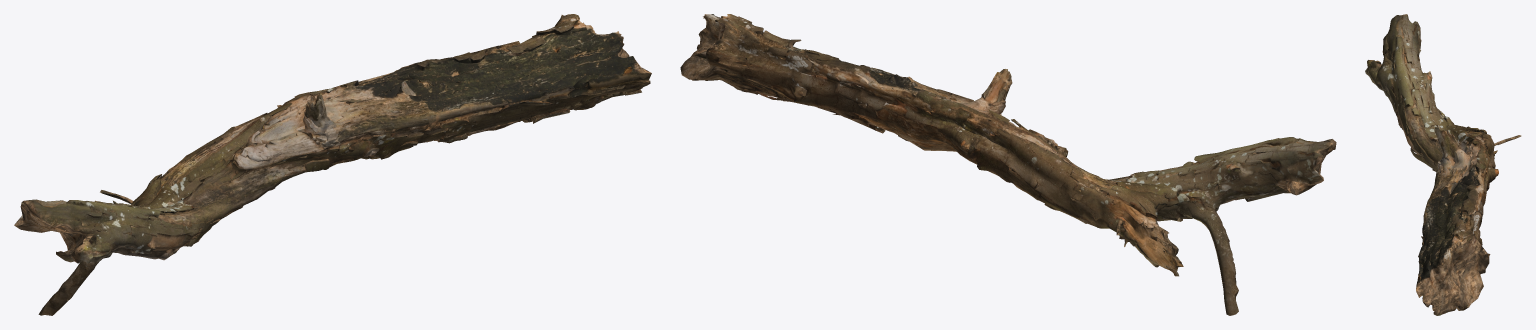
The model's file is sunken_trunk_b.glb.
The picture shows the model from 3 angles, left to right: view 1: azimuth 30°, elevation 25°; view 2: azimuth 150°, elevation 25°; view 3: azimuth 270°, elevation 25°; orthographic projection. The views are drawn at different scales.
Visible parts, largest first — view 1: sunken_trunk_b; view 2: sunken_trunk_b; view 3: sunken_trunk_b.
Part boxes in pixels (<box>): sunken_trunk_b: <box>14,14,651,315</box>; sunken_trunk_b: <box>680,14,1336,315</box>; sunken_trunk_b: <box>1365,14,1521,315</box>.
Bounding box in the file's own units: 4.06 × 1.05 × 1.06.
Materials: 1 (1 with a texture image).
